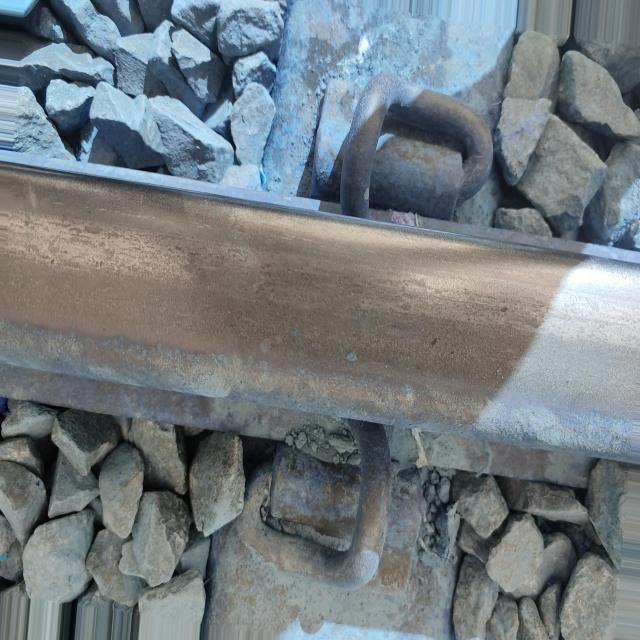Good Fasteners: (211, 415, 422, 633), (291, 65, 511, 252)
